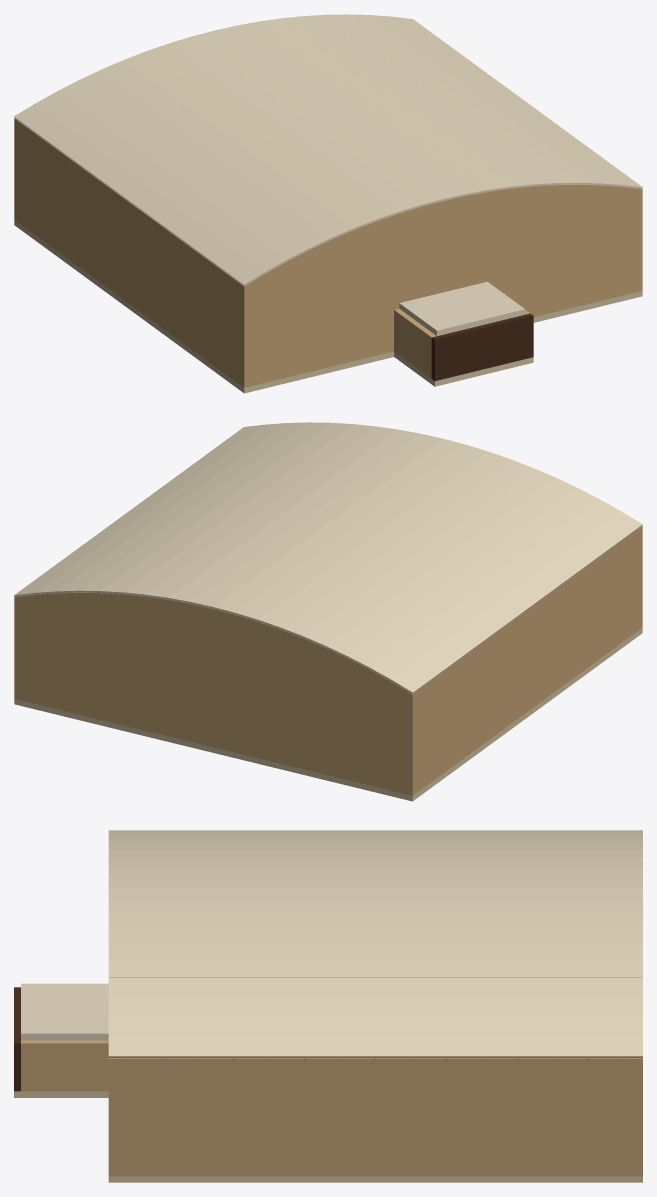
The model's file is hall_252.glb.
The picture shows the model from 3 angles, top to bottom: view 1: azimuth 30°, elevation 25°; view 2: azimuth 150°, elevation 25°; view 3: azimuth 270°, elevation 25°; orthographic projection. The views are drawn at different scales.
Parts seen in each view (by area): view 1: hall_252 ceiling, hall_252 wall, hall_252 wood, hall_252 floor; view 2: hall_252 ceiling, hall_252 wall, hall_252 floor; view 3: hall_252 ceiling, hall_252 wall, hall_252 floor, hall_252 wood.
Part boxes in pixels (bbox=[...]): hall_252 ceiling: bbox=[14, 14, 642, 335]; hall_252 wall: bbox=[14, 118, 642, 387]; hall_252 wood: bbox=[431, 313, 533, 380]; hall_252 floor: bbox=[14, 220, 642, 393]; hall_252 ceiling: bbox=[14, 422, 642, 693]; hall_252 wall: bbox=[14, 526, 642, 795]; hall_252 floor: bbox=[14, 628, 642, 801]; hall_252 ceiling: bbox=[21, 830, 642, 1057]; hall_252 wall: bbox=[21, 1040, 642, 1176]; hall_252 floor: bbox=[14, 1091, 642, 1182]; hall_252 wood: bbox=[14, 987, 20, 1091].
Size of what is drawn, in the model's own units: 45.28 by 15.82 by 53.2.
